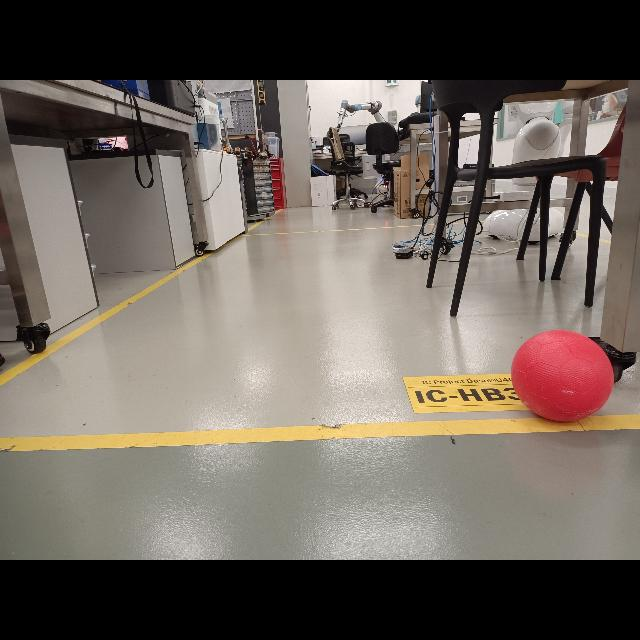R: (510, 328, 614, 424)
